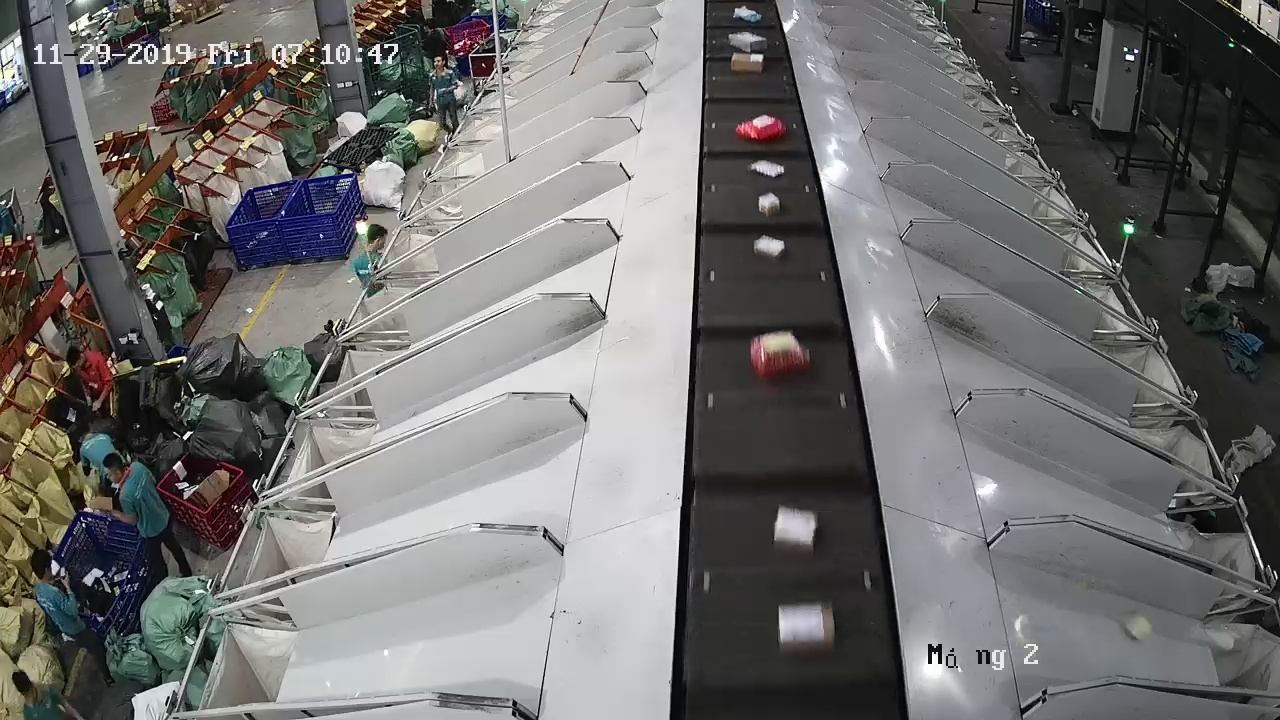parcel: (777, 599, 836, 657), (750, 329, 810, 382), (772, 504, 817, 558), (735, 113, 787, 143), (753, 234, 785, 261), (750, 158, 785, 178), (758, 192, 780, 216)
